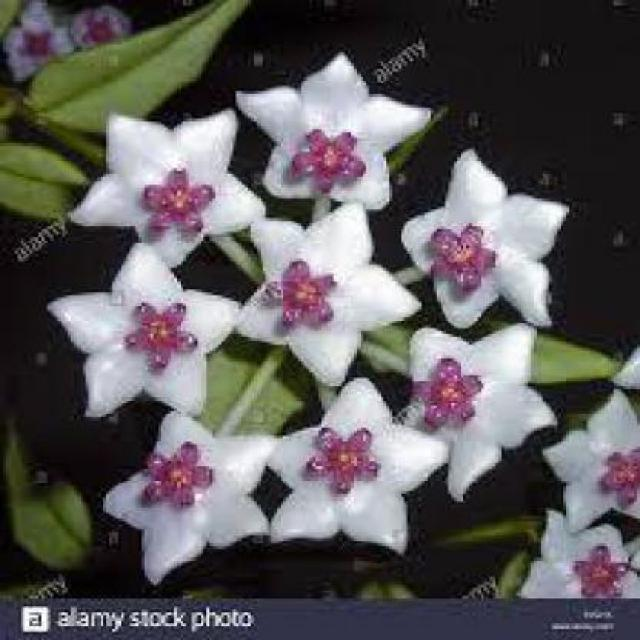flower: (80, 99, 569, 558)
